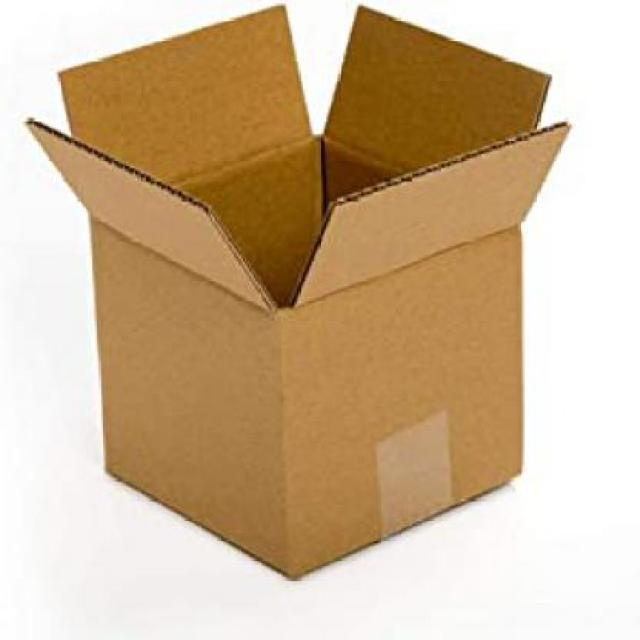box: (21, 8, 562, 582)
